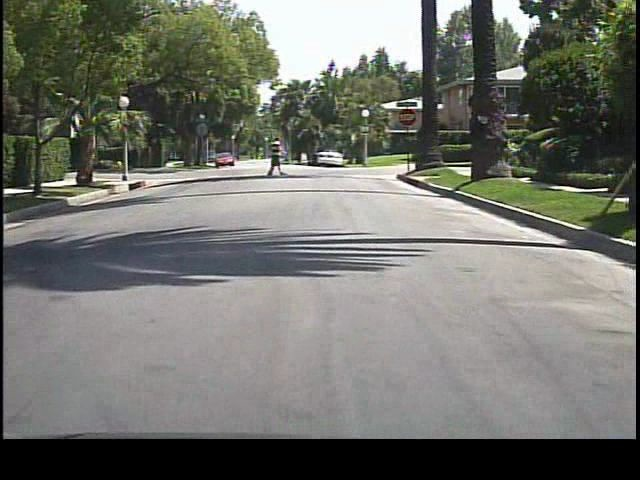person: (268, 136, 286, 176)
